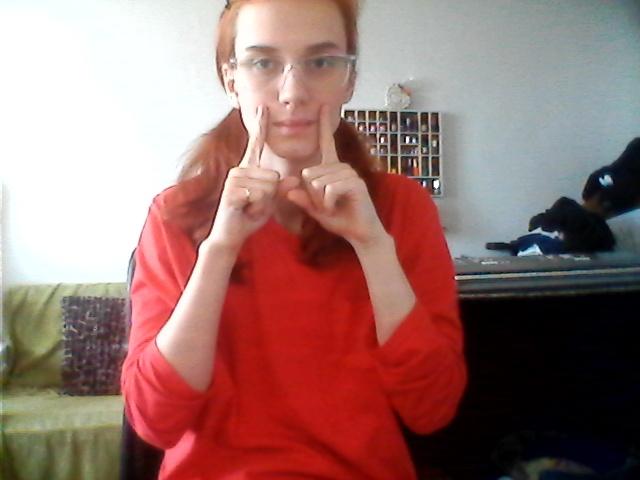h: (228, 105, 364, 224)
